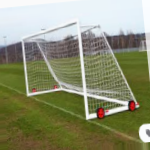goals: (21, 19, 140, 120)
